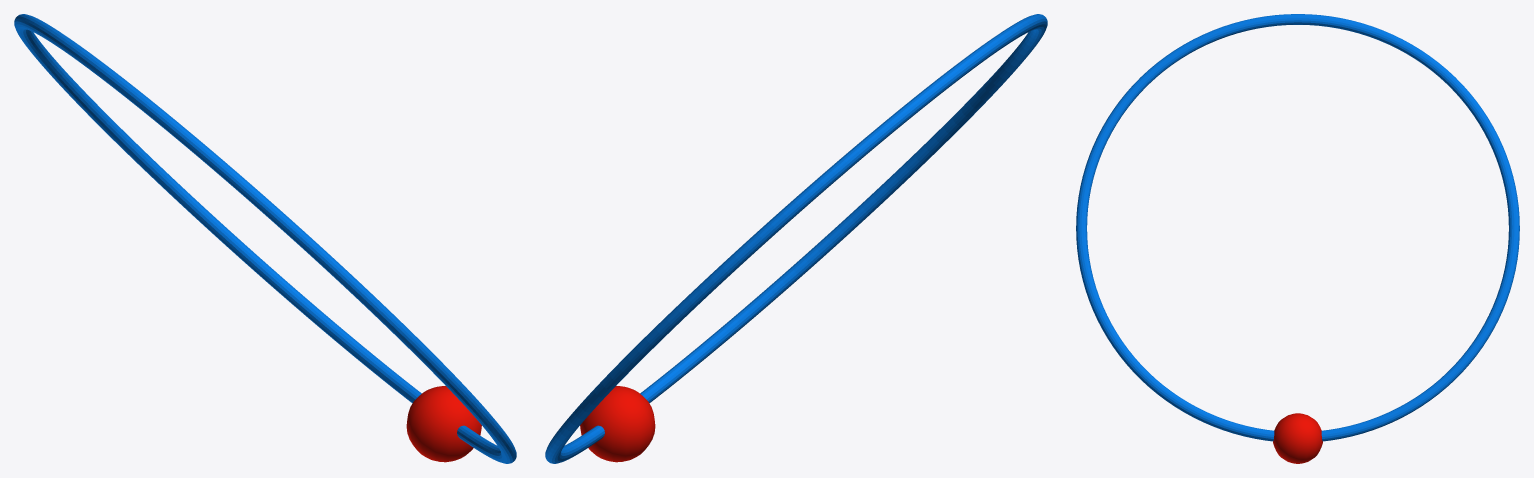
Rendered from pole3.fbx.
The picture shows the model from 3 angles, left to right: view 1: azimuth 30°, elevation 25°; view 2: azimuth 150°, elevation 25°; view 3: azimuth 270°, elevation 25°; orthographic projection. The views are drawn at different scales.
Visible parts, largest first — view 1: pole3; view 2: pole3; view 3: pole3.
Part boxes in pixels (box(x1,y1,x2,y2)): pole3: box(14, 14, 516, 463); pole3: box(545, 14, 1047, 463); pole3: box(1076, 14, 1519, 463).
Bounding box in the file's own units: 206 × 244 × 297.
